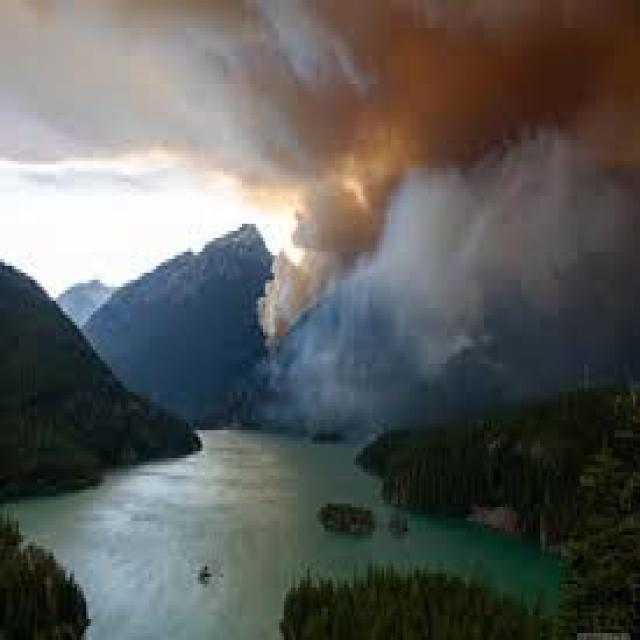Smoke: (247, 71, 640, 449), (255, 0, 627, 345)
